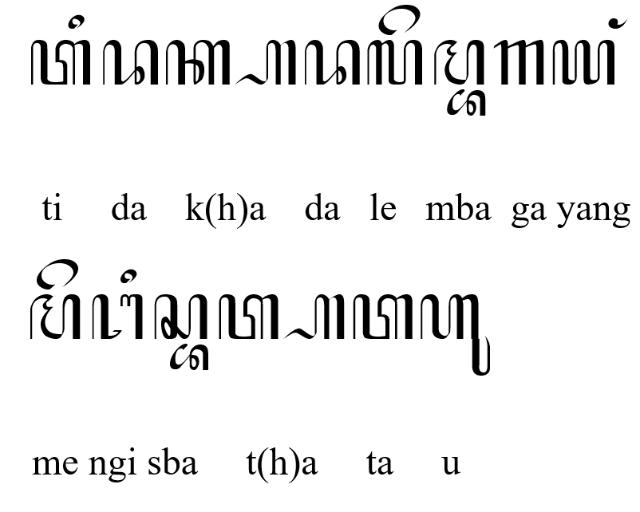_b: (169, 342, 209, 372), (446, 88, 486, 116)
_h: (235, 38, 298, 86), (283, 293, 345, 341)
d: (102, 38, 158, 86), (302, 40, 360, 86)
e: (377, 4, 421, 36), (36, 258, 78, 290)
g: (492, 39, 546, 85)
hu: (419, 294, 491, 376)
i: (68, 13, 86, 29), (120, 268, 138, 284)
k: (164, 36, 232, 84)
l: (366, 39, 424, 87)
m: (433, 38, 487, 86), (29, 293, 82, 341)
ng: (608, 16, 628, 30)
nga: (92, 293, 144, 341)
s: (154, 292, 208, 340)
t: (29, 38, 92, 86), (218, 294, 280, 340), (352, 294, 414, 340)
y: (552, 38, 616, 86)
